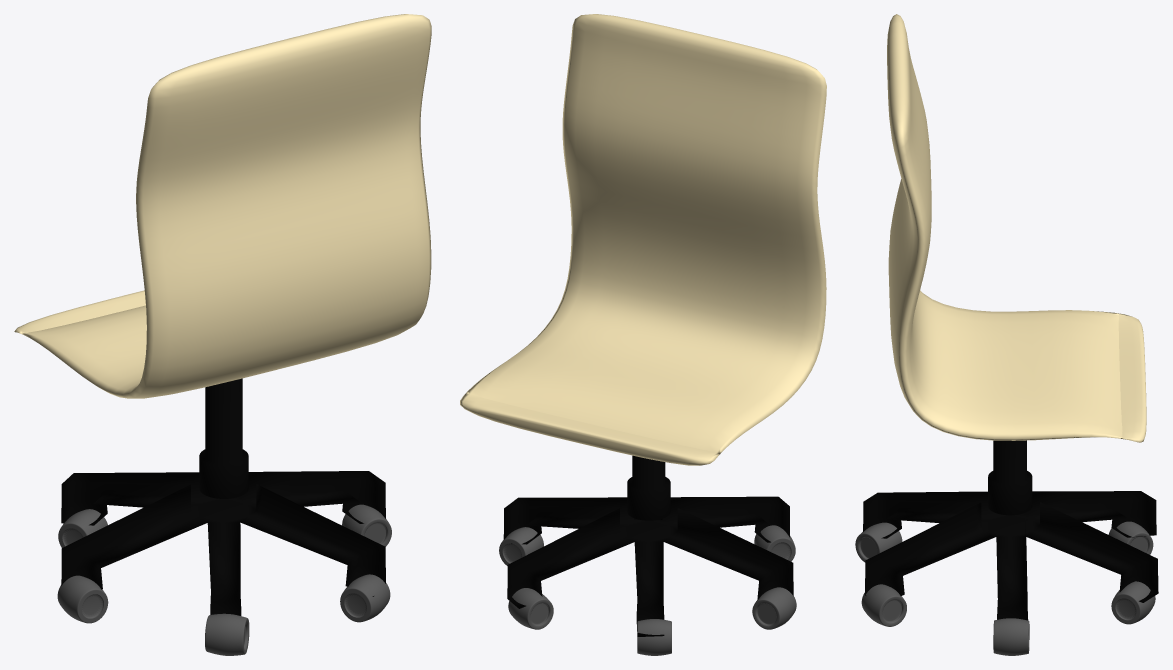
The model's file is silla.glb.
3 renders of one model, left to right at view 1: azimuth 30°, elevation 25°; view 2: azimuth 150°, elevation 25°; view 3: azimuth 270°, elevation 25°, orthographic. The views are drawn at different scales.
Parts seen in each view (by area): view 1: Cube.001, Cylinder, Cylinder.001, Cylinder.004, Cylinder.003, Cylinder.006, Cylinder.002; view 2: Cube.001, Cylinder, Cylinder.001, Cylinder.005, Cylinder.002, Cylinder.006, Cylinder.003; view 3: Cube.001, Cylinder, Cylinder.004, Cylinder.006, Cylinder.005, Cylinder.003, Cylinder.002.
Boxes of the visible parts, x1,y1,x2,y2 form: Cube.001: (14,14,431,398); Cylinder: (61,378,385,615); Cylinder.001: (57,575,108,623); Cylinder.004: (340,574,390,622); Cylinder.003: (205,613,249,655); Cylinder.006: (342,504,391,546); Cylinder.002: (58,509,107,547); Cube.001: (460,14,826,465); Cylinder: (503,455,793,636); Cylinder.001: (752,587,796,629); Cylinder.005: (508,588,553,629); Cylinder.002: (637,619,671,655); Cylinder.006: (499,527,543,565); Cylinder.003: (754,525,795,561); Cube.001: (887,14,1146,442); Cylinder: (863,440,1158,620); Cylinder.004: (861,584,906,626); Cylinder.006: (993,618,1029,655); Cylinder.005: (1111,581,1155,624); Cylinder.003: (855,522,902,562); Cylinder.002: (1108,521,1153,554).
Bounding box in the file's own units: 3.07 × 5.36 × 2.79.
